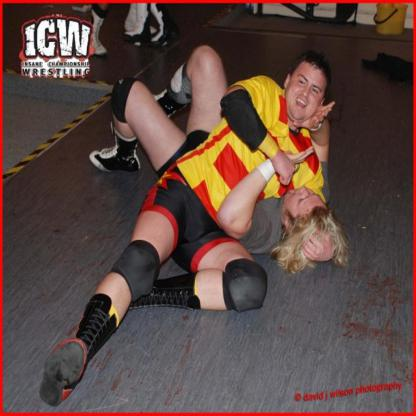face: (288, 59, 327, 123), (287, 188, 329, 218)
